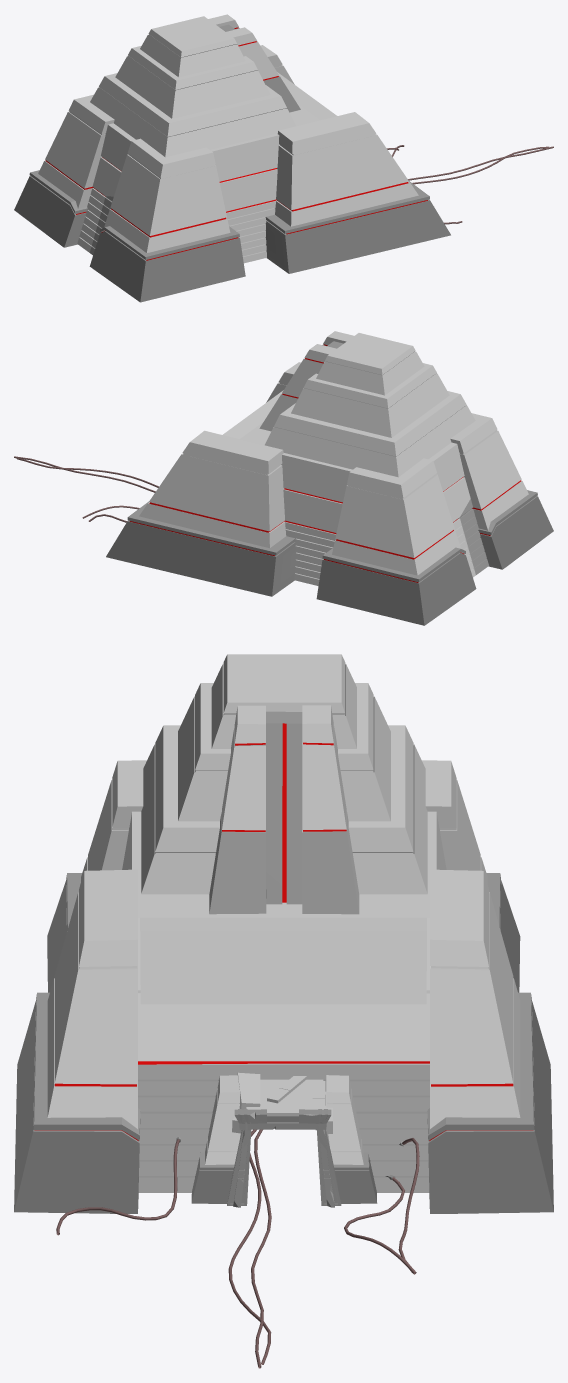
Rendered from SM_Memorial_Palace.fbx.
3 views of the same model, one above another, from view 1: azimuth 30°, elevation 25°; view 2: azimuth 150°, elevation 25°; view 3: azimuth 270°, elevation 25° (orthographic). The views are drawn at different scales.
Parts seen in each view (by area): view 1: SM_Memorial_Palace; view 2: SM_Memorial_Palace; view 3: SM_Memorial_Palace.
Part boxes in pixels (<box>): SM_Memorial_Palace: <box>14,14,553,302</box>; SM_Memorial_Palace: <box>14,331,553,625</box>; SM_Memorial_Palace: <box>14,654,553,1368</box>.
Size of the model in its own units: 1878 by 765 by 997.
